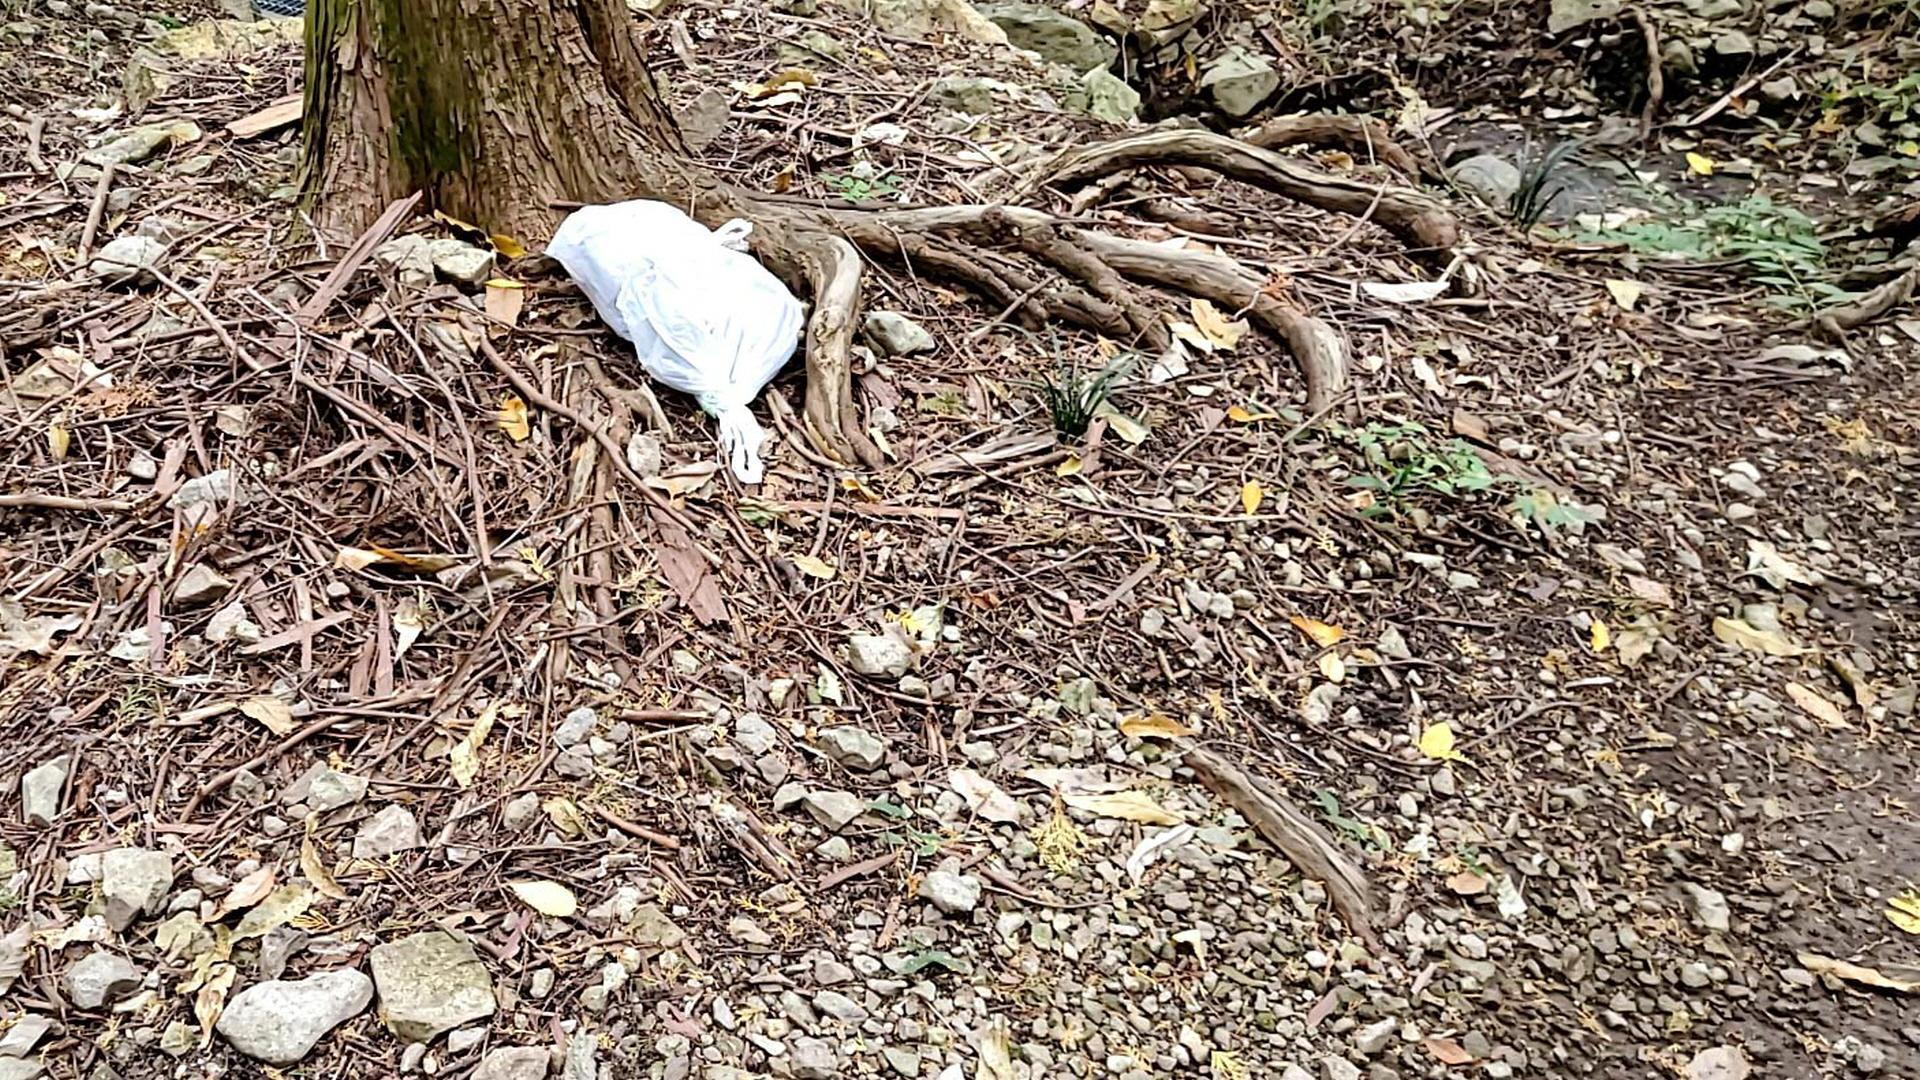white_bag: (526, 185, 832, 491)
